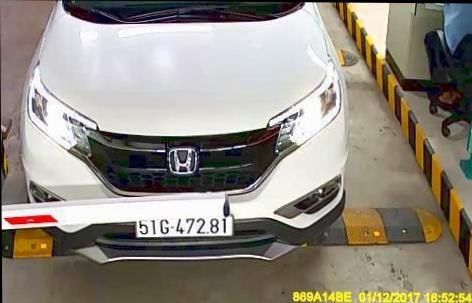License_Plate: (135, 213, 234, 237)
